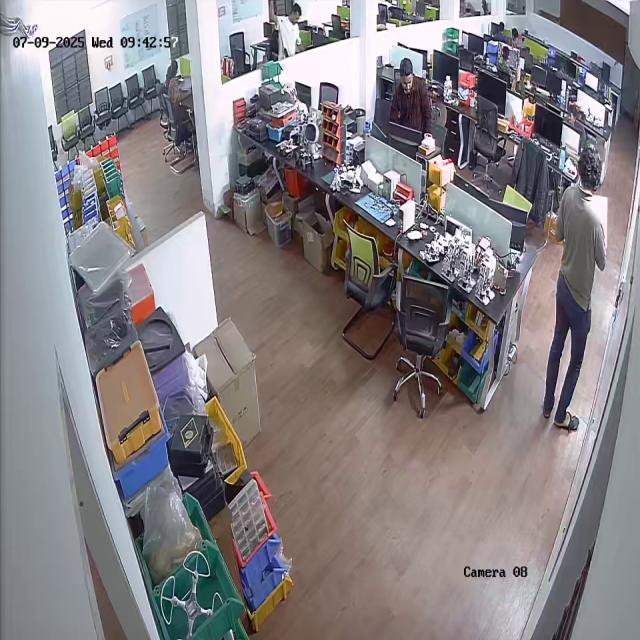person: (538, 144, 609, 436), (383, 56, 438, 149), (268, 3, 304, 59), (161, 60, 191, 126)
